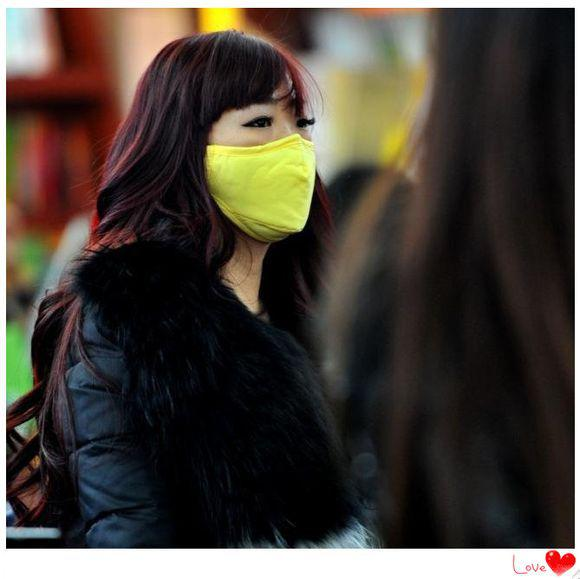OK: (196, 103, 324, 231)
